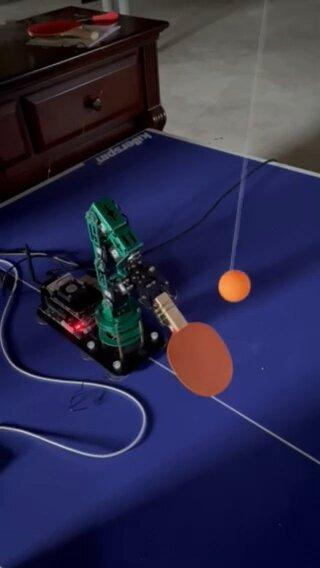oball: (220, 271, 250, 300)
